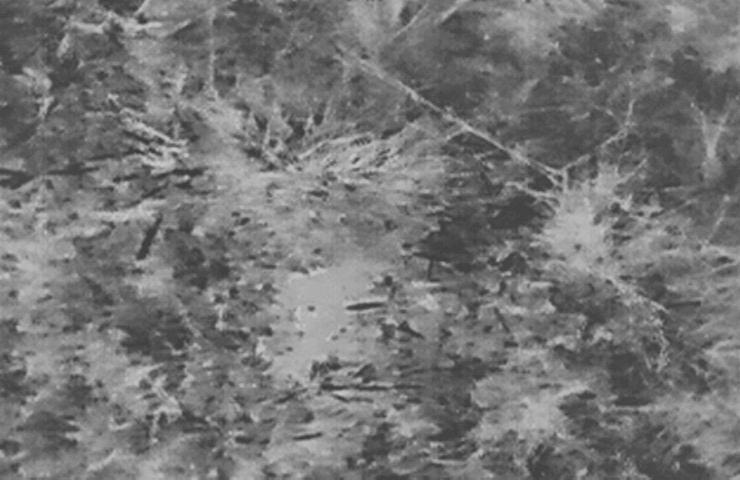landmines: (288, 268, 358, 346)
